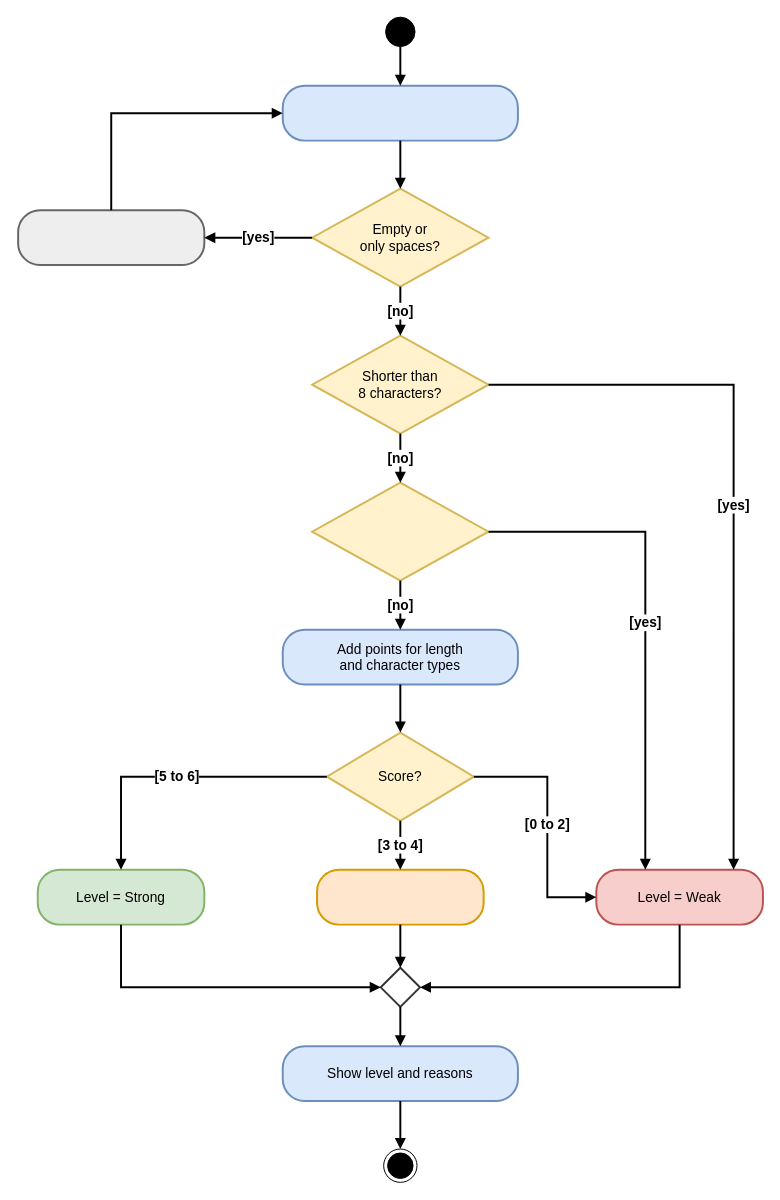
Some shapes in this 780 by 1200 pixel diagram are drawn without their labels. Here are the shapes that lost their labels. From the top down, the box of each, then its label:
(281, 84, 518, 141): Get password (terminal or web form)
(17, 209, 205, 266): Show error message
(311, 481, 489, 581): In the common password list?
(316, 868, 484, 925): Level = Medium
